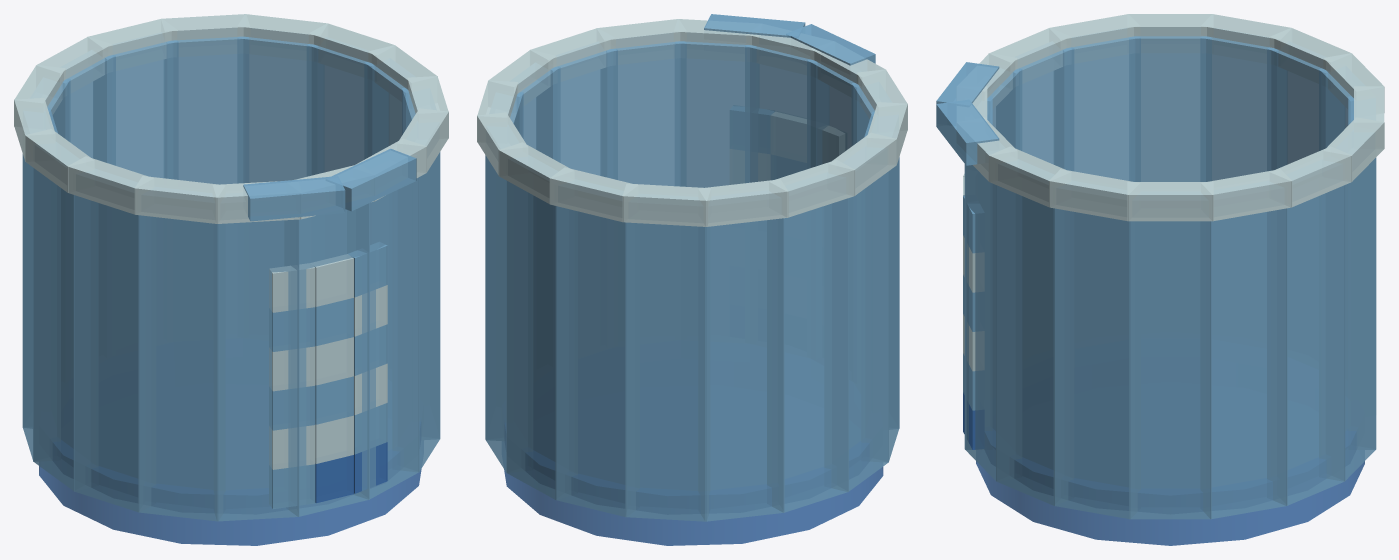
The model's file is CMU3DCryoxadoneBeakerSmallDrinksExtraCloudEmptyStudy.glb.
The picture shows the model from 3 angles, left to right: view 1: azimuth 30°, elevation 25°; view 2: azimuth 150°, elevation 25°; view 3: azimuth 270°, elevation 25°; orthographic projection.
Parts seen in each view (by area): view 1: thin hollow blue glass wall 10, thin hollow blue glass wall 09, thin hollow blue glass wall 11, thin hollow blue glass wall 08, thick glass vessel floor, thin hollow blue glass wall 13, thin hollow blue glass wall 14, thin hollow blue glass wall 03, thin hollow blue glass wall 02, thin hollow blue glass wall 07, source front label tangent 0, thin hollow blue glass wall 04 (+25 smaller); view 2: thin hollow blue glass wall 06, thin hollow blue glass wall 05, thin hollow blue glass wall 04, thin hollow blue glass wall 07, thin hollow blue glass wall 03, thin hollow blue glass wall 08, thick glass vessel floor, thin hollow blue glass wall 02, thin hollow blue glass wall 13, thin hollow blue glass wall 14, thin hollow blue glass wall 09, thin hollow blue glass wall 12 (+26 smaller); view 3: thin hollow blue glass wall 15, thin hollow blue glass wall 01, thin hollow blue glass wall 00, thin hollow blue glass wall 02, thin hollow blue glass wall 14, thin hollow blue glass wall 03, thick glass vessel floor, thin hollow blue glass wall 13, thin hollow blue glass wall 08, thin hollow blue glass wall 07, thin hollow blue glass wall 09, thin hollow blue glass wall 04 (+23 smaller).
Boxes of the visible parts, x1,y1,x2,y2 form: thin hollow blue glass wall 10: [138, 215, 225, 521]; thin hollow blue glass wall 09: [73, 195, 155, 512]; thin hollow blue glass wall 11: [214, 219, 299, 521]; thin hollow blue glass wall 08: [33, 168, 98, 491]; thick glass vessel floor: [39, 422, 421, 545]; thin hollow blue glass wall 13: [347, 177, 419, 499]; thin hollow blue glass wall 14: [392, 152, 439, 472]; thin hollow blue glass wall 03: [164, 36, 248, 184]; thin hollow blue glass wall 02: [237, 36, 324, 183]; thin hollow blue glass wall 07: [22, 107, 60, 461]; source front label tangent 0: [269, 263, 315, 509]; thin hollow blue glass wall 04: [93, 40, 178, 179]; thin hollow blue glass wall 06: [698, 218, 784, 521]; thin hollow blue glass wall 05: [625, 222, 709, 521]; thin hollow blue glass wall 04: [555, 206, 639, 517]; thin hollow blue glass wall 07: [767, 198, 848, 512]; thin hollow blue glass wall 03: [506, 180, 577, 499]; thin hollow blue glass wall 08: [824, 171, 888, 491]; thick glass vessel floor: [504, 423, 883, 545]; thin hollow blue glass wall 02: [485, 155, 532, 472]; thin hollow blue glass wall 13: [675, 41, 759, 187]; thin hollow blue glass wall 14: [600, 41, 686, 186]; thin hollow blue glass wall 09: [861, 111, 899, 462]; thin hollow blue glass wall 12: [745, 45, 829, 182]; thin hollow blue glass wall 15: [1053, 208, 1140, 518]; thin hollow blue glass wall 01: [1200, 208, 1287, 518]; thin hollow blue glass wall 00: [1129, 221, 1211, 519]; thin hollow blue glass wall 02: [1267, 185, 1345, 505]; thin hollow blue glass wall 14: [996, 185, 1073, 505]; thin hollow blue glass wall 03: [1319, 157, 1376, 481]; thick glass vessel floor: [976, 429, 1364, 545]; thin hollow blue glass wall 13: [964, 164, 1021, 481]; thin hollow blue glass wall 08: [1129, 36, 1211, 181]; thin hollow blue glass wall 07: [1200, 36, 1286, 181]; thin hollow blue glass wall 09: [1054, 36, 1140, 181]; thin hollow blue glass wall 04: [1348, 96, 1375, 449].
Bounding box in the file's own units: 0.3084 × 0.287 × 0.3229.
7 materials, 3 textured.
